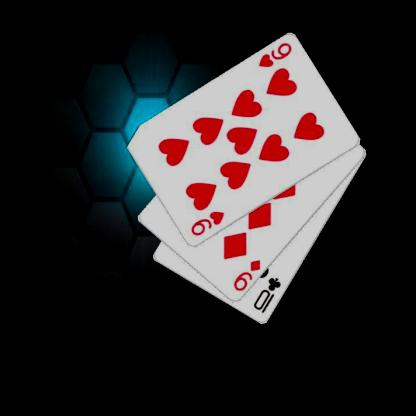10C: (250, 275, 282, 315)
9D: (231, 258, 262, 292)
9H: (188, 208, 226, 238), (255, 40, 293, 70)
